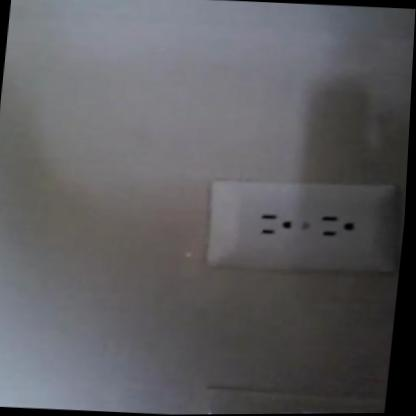OUTLET: (203, 173, 402, 276)
